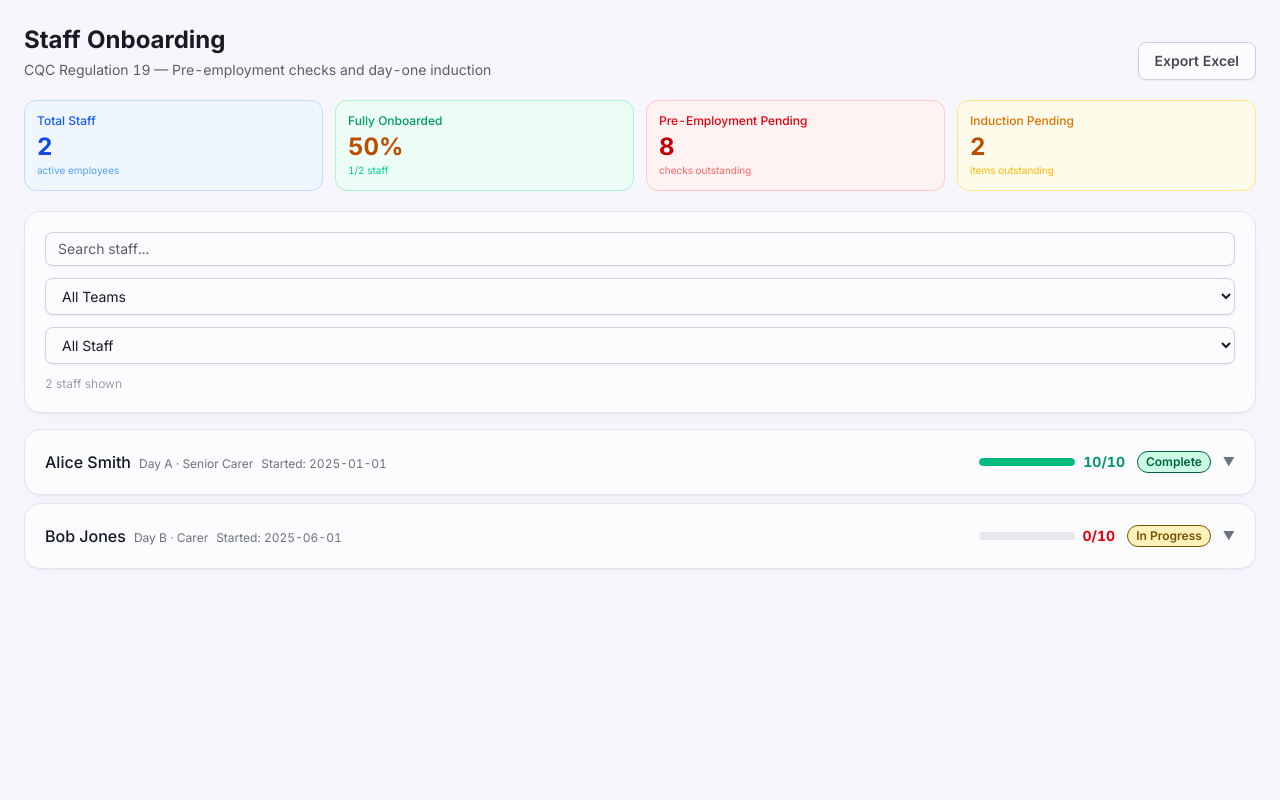
Test: OnboardingTracker › expands staff row to show onboarding sections on click
Check: the text "Alice Smith" is shown, box [45,452,131,472]
Click the button that starts with "Alice Smith": (88, 462) [45,450,1235,474]
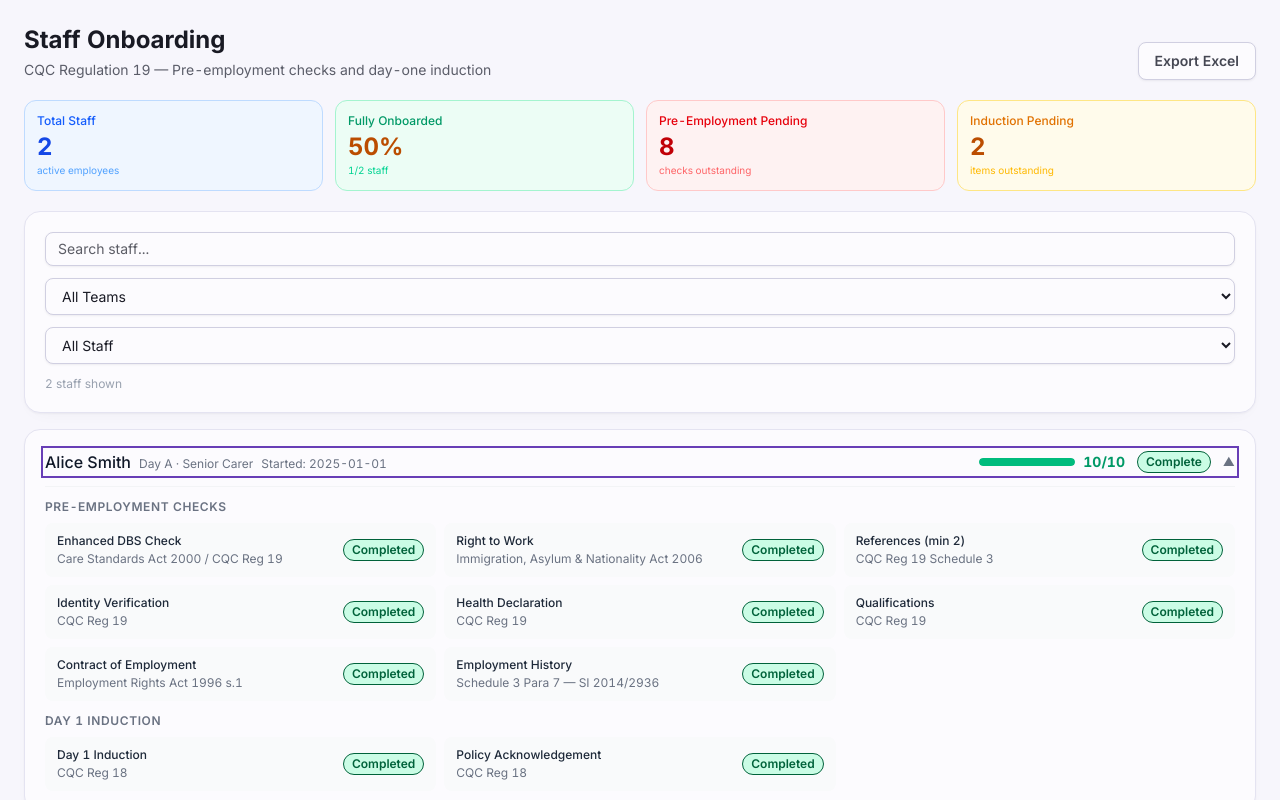
Check: the heading "Pre-Employment Checks" is shown, box [45,499,227,514]
Check: the text "Enhanced DBS Check" is shown, box [57,533,182,548]
Check: the text "Right to Work" is shown, box [456,533,534,548]
